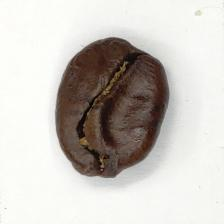NG: (72, 73, 144, 158)
